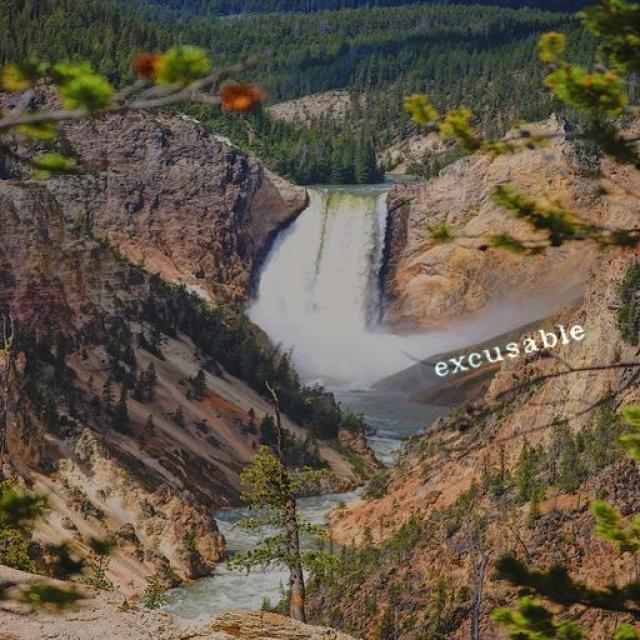watermark: (428, 316, 586, 380)
